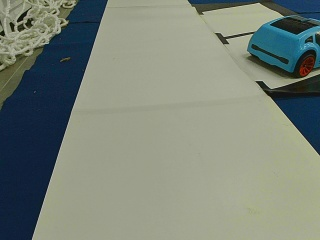car: (247, 14, 319, 76)
